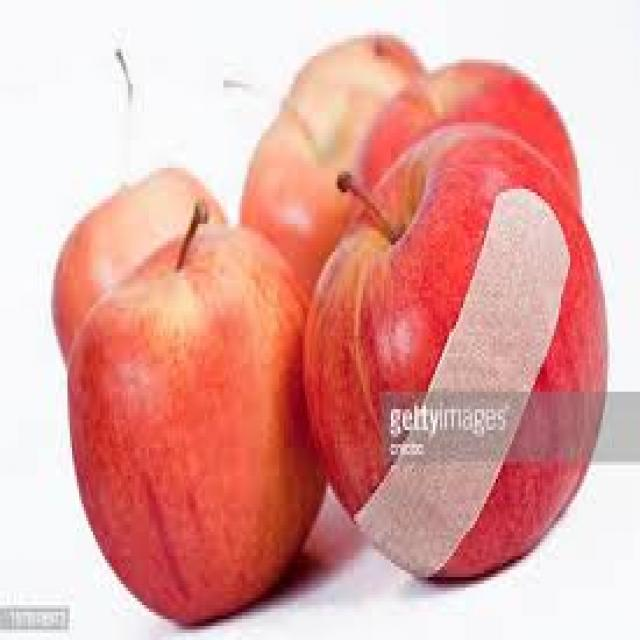organic waste: (305, 119, 605, 577), (63, 196, 323, 626), (224, 32, 422, 290), (356, 56, 580, 227), (49, 165, 223, 368)
